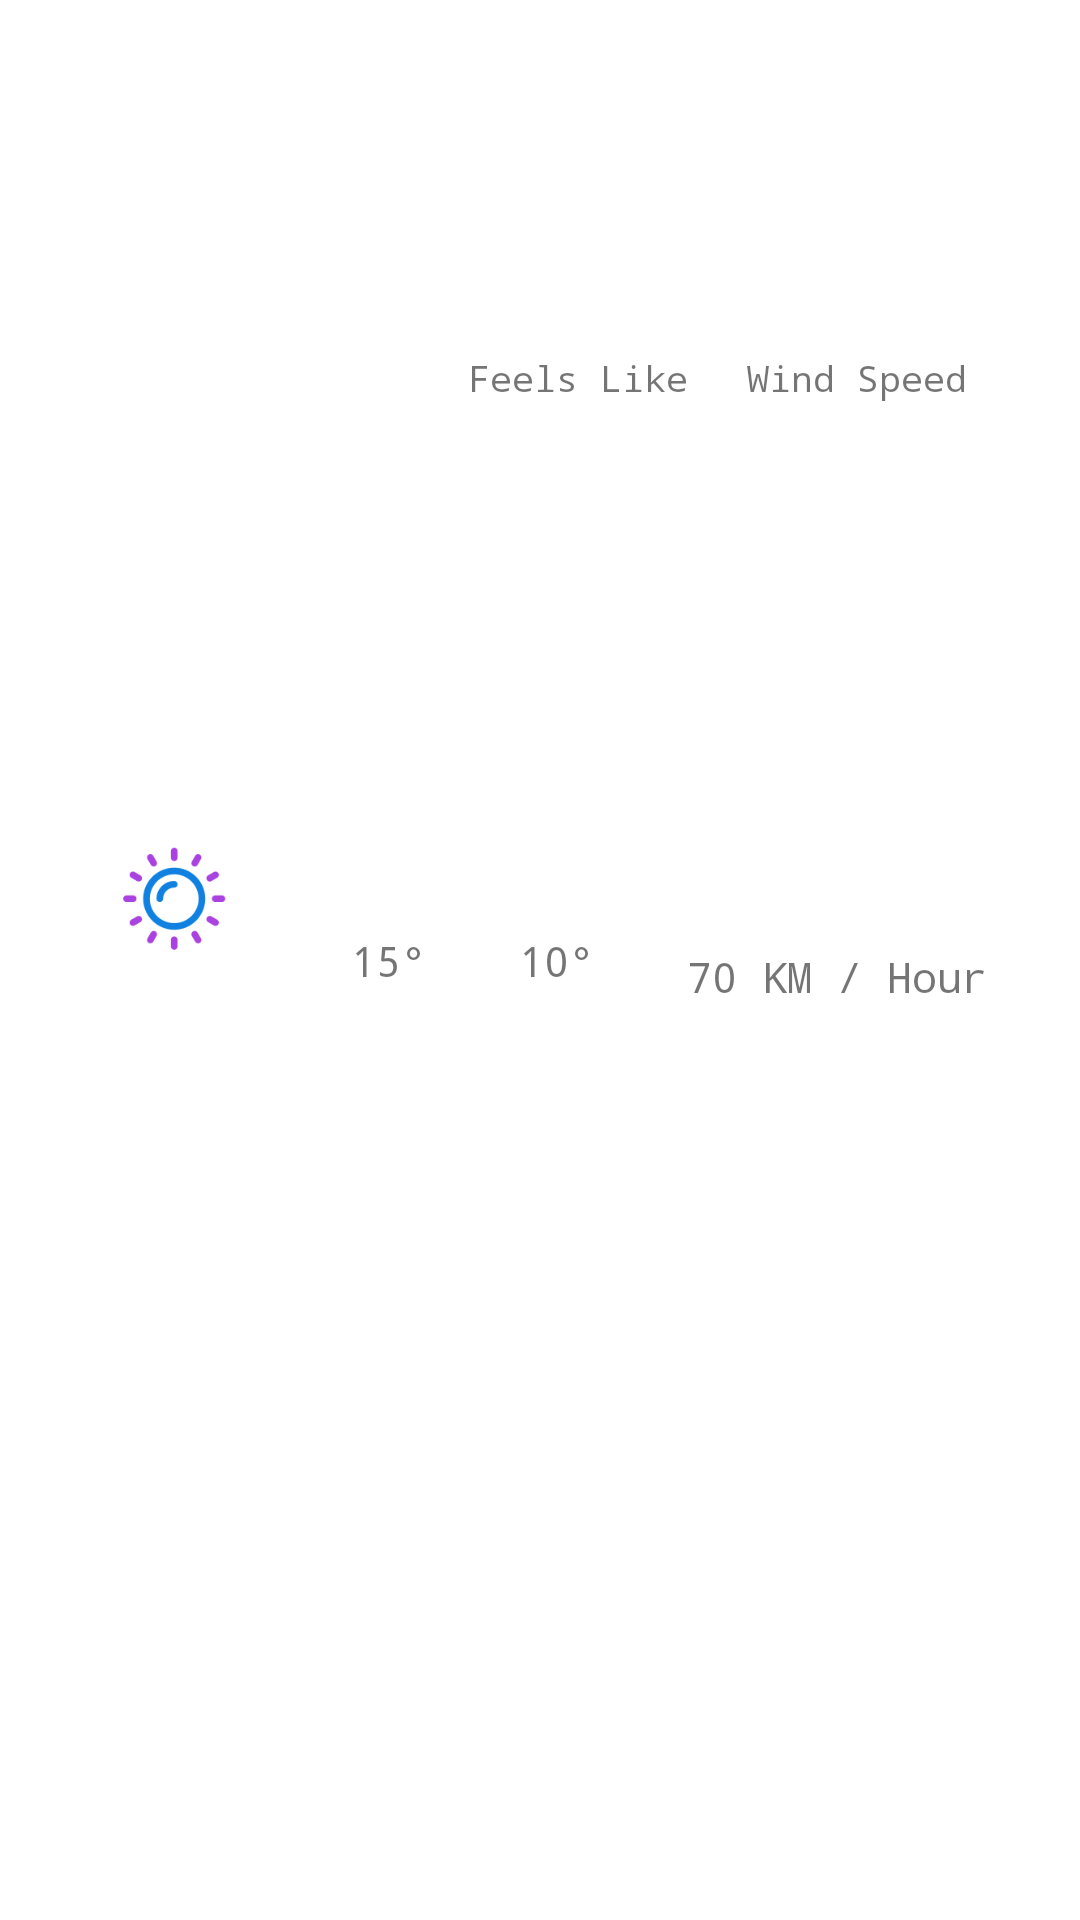

Icon click points for this 1080px x 1920px phone screenshot, format point (x, y):
clear sky: point (174, 898)
